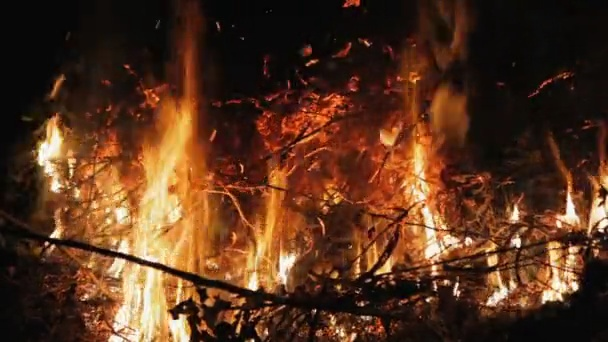fire: (103, 102, 200, 341), (410, 141, 441, 263), (541, 241, 578, 299), (36, 119, 64, 191), (481, 242, 507, 307), (588, 175, 608, 233), (565, 185, 576, 224), (277, 252, 294, 274), (248, 275, 258, 292), (52, 227, 62, 236)
